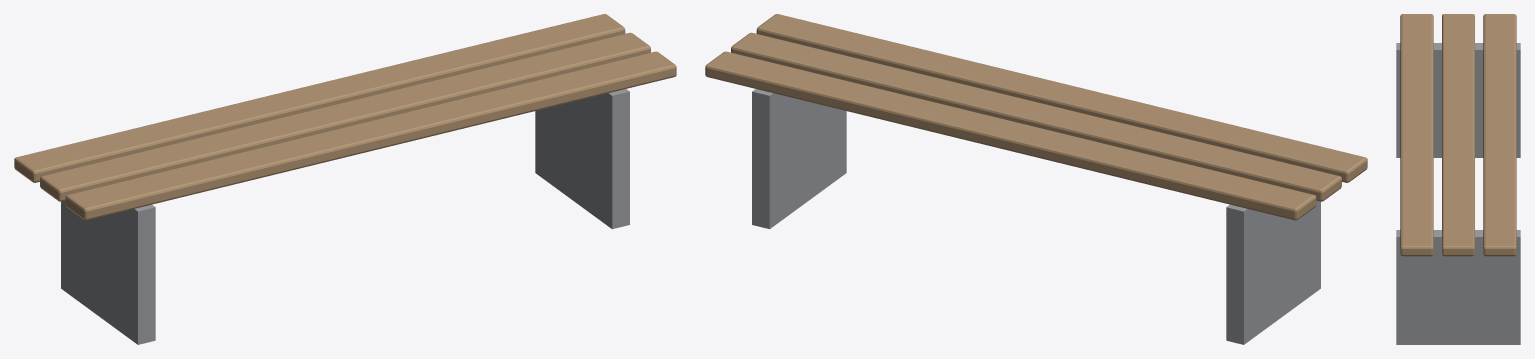
File: mall_bench.glb
3 views of the same model, side by side, from view 1: azimuth 30°, elevation 25°; view 2: azimuth 150°, elevation 25°; view 3: azimuth 270°, elevation 25° (orthographic). The views are drawn at different scales.
Visible parts, largest first — view 1: mall_bench; view 2: mall_bench; view 3: mall_bench.
Boxes of the visible parts, x1=… form: mall_bench: x1=14, y1=14, x2=676, y2=344; mall_bench: x1=705, y1=14, x2=1367, y2=344; mall_bench: x1=1396, y1=14, x2=1520, y2=344.
Bounding box in the file's own units: 2 × 0.47 × 0.45.
